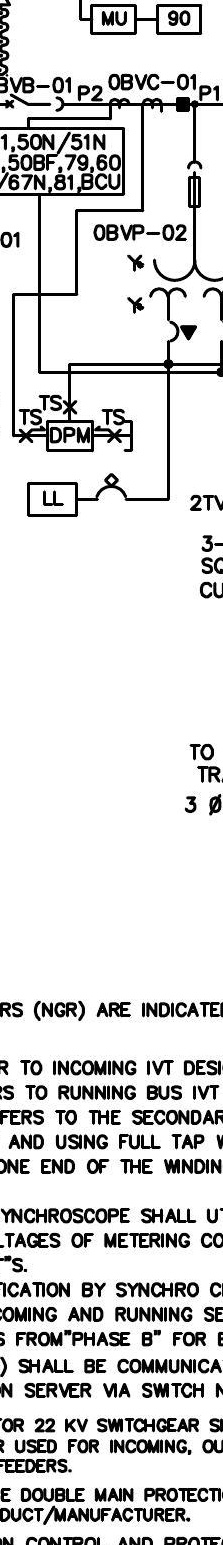DPM: (45, 419, 95, 453)
LL: (26, 481, 78, 518)
MU: (89, 3, 138, 36)
